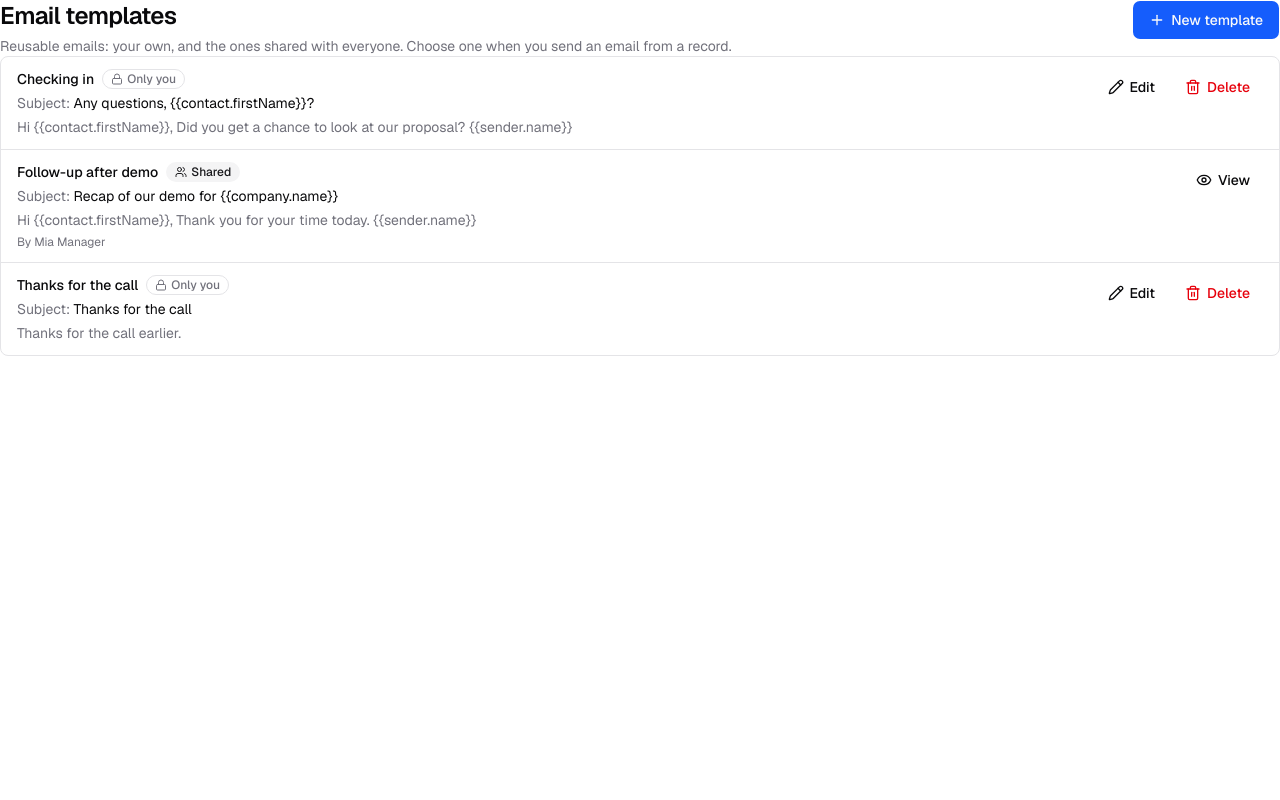
EmailTemplatesPage › adds a template; a Sales Rep never sends `shared`
Click the button "New template" at (1206, 20), box [1132,0,1279,40]
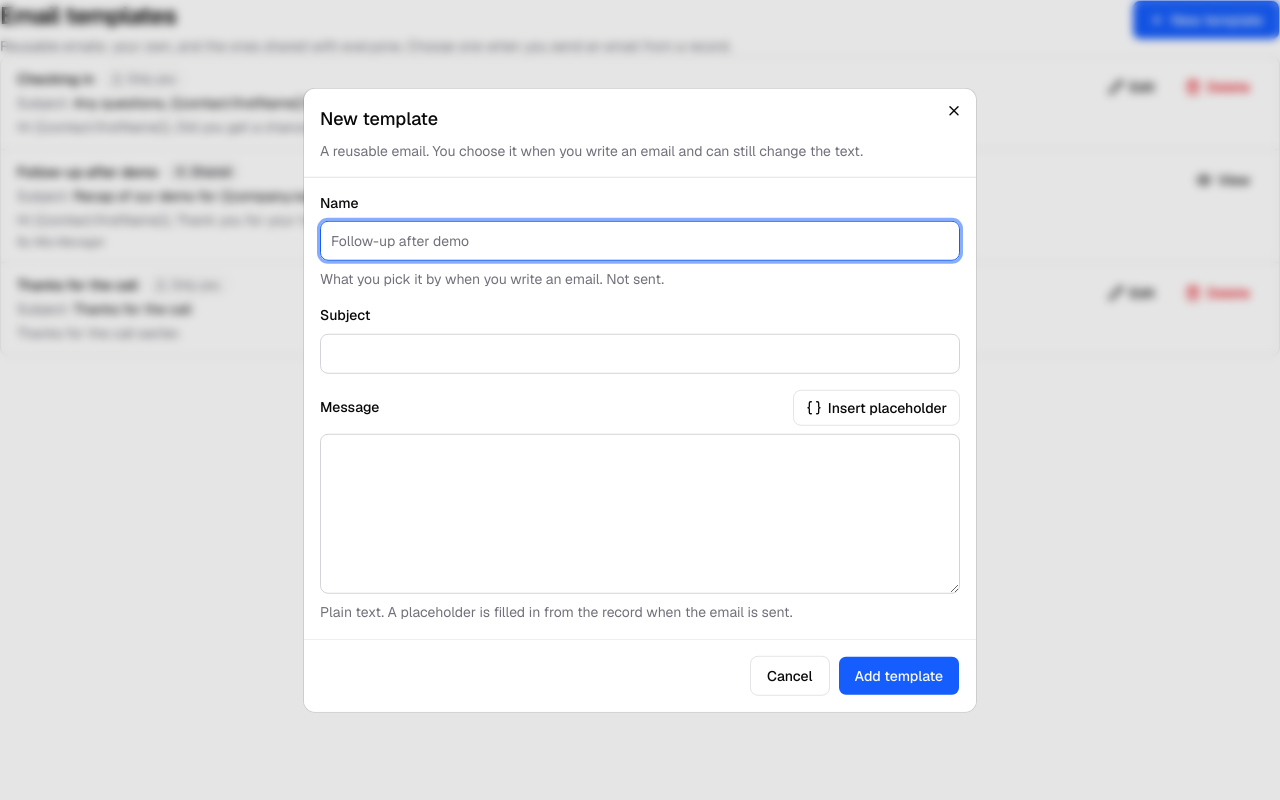
Type "Intro" into the field labelled "Name" at (640, 241), box [320,221,960,261]
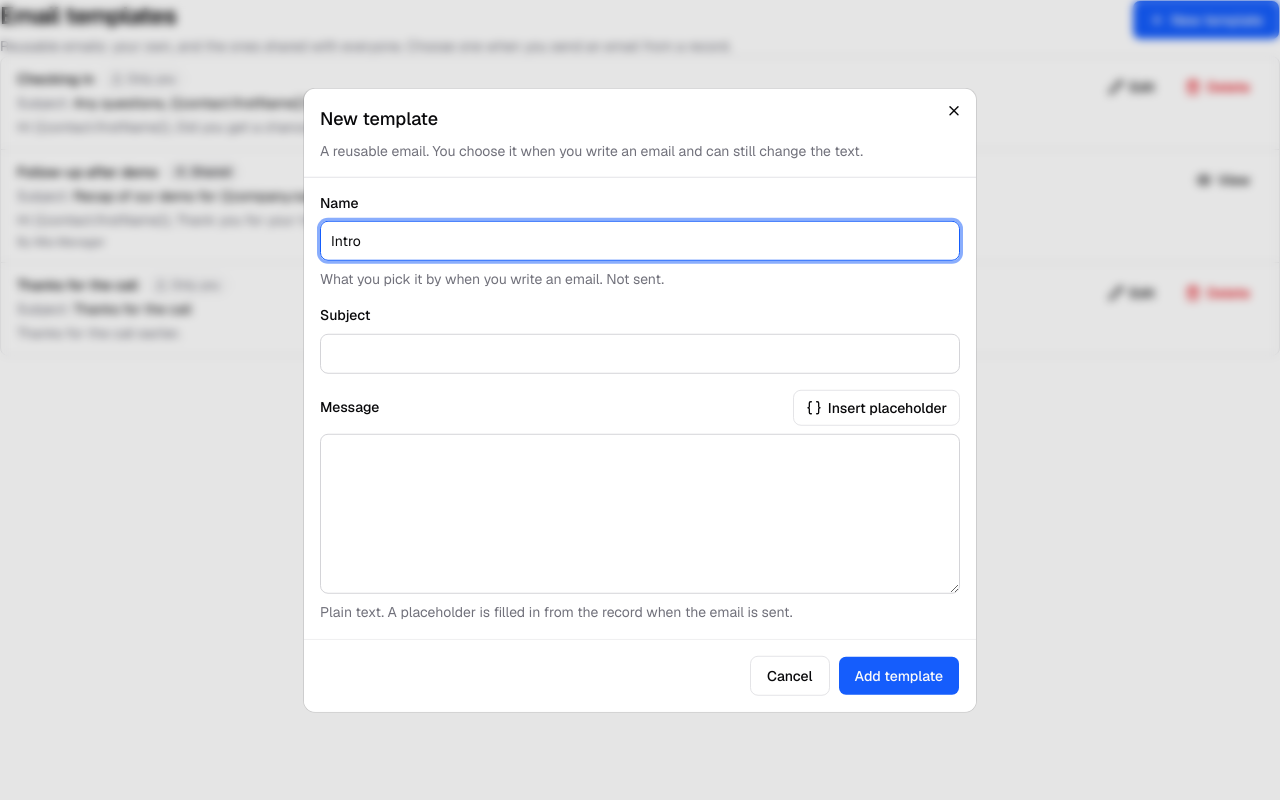
Type "Hello" into the field labelled "Subject" at (640, 353), box [320,333,960,373]
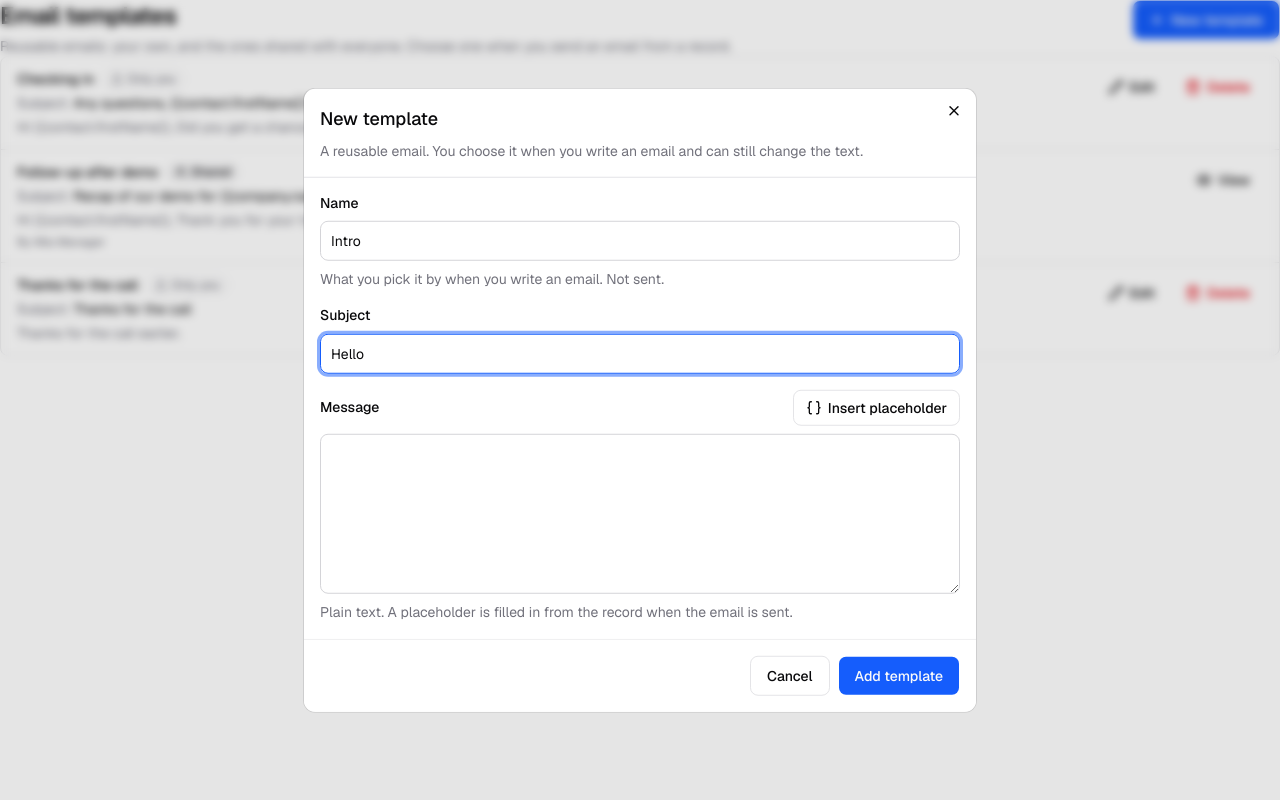
Type "Hi there" into the text box labelled "Message" at (640, 513), box [320,433,960,593]
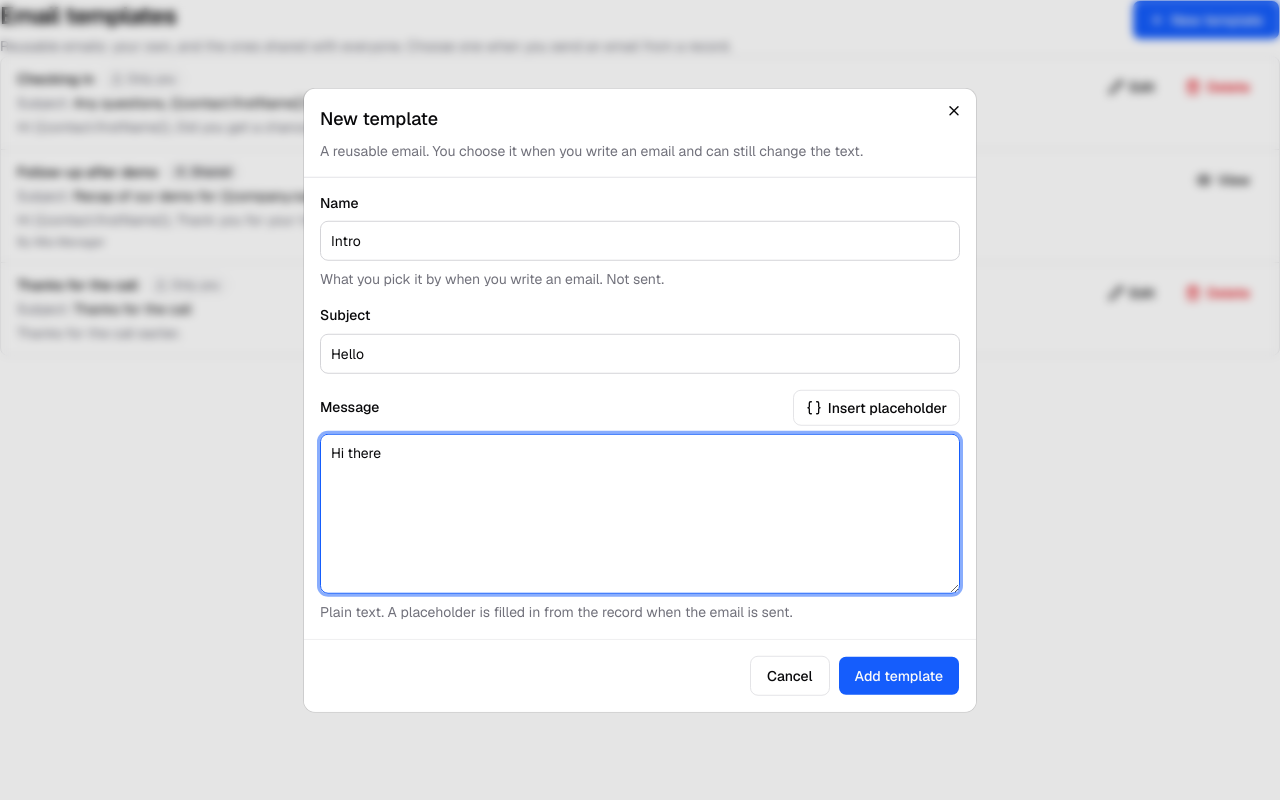
Click the button "Add template" at (899, 675), box [838,655,960,695]
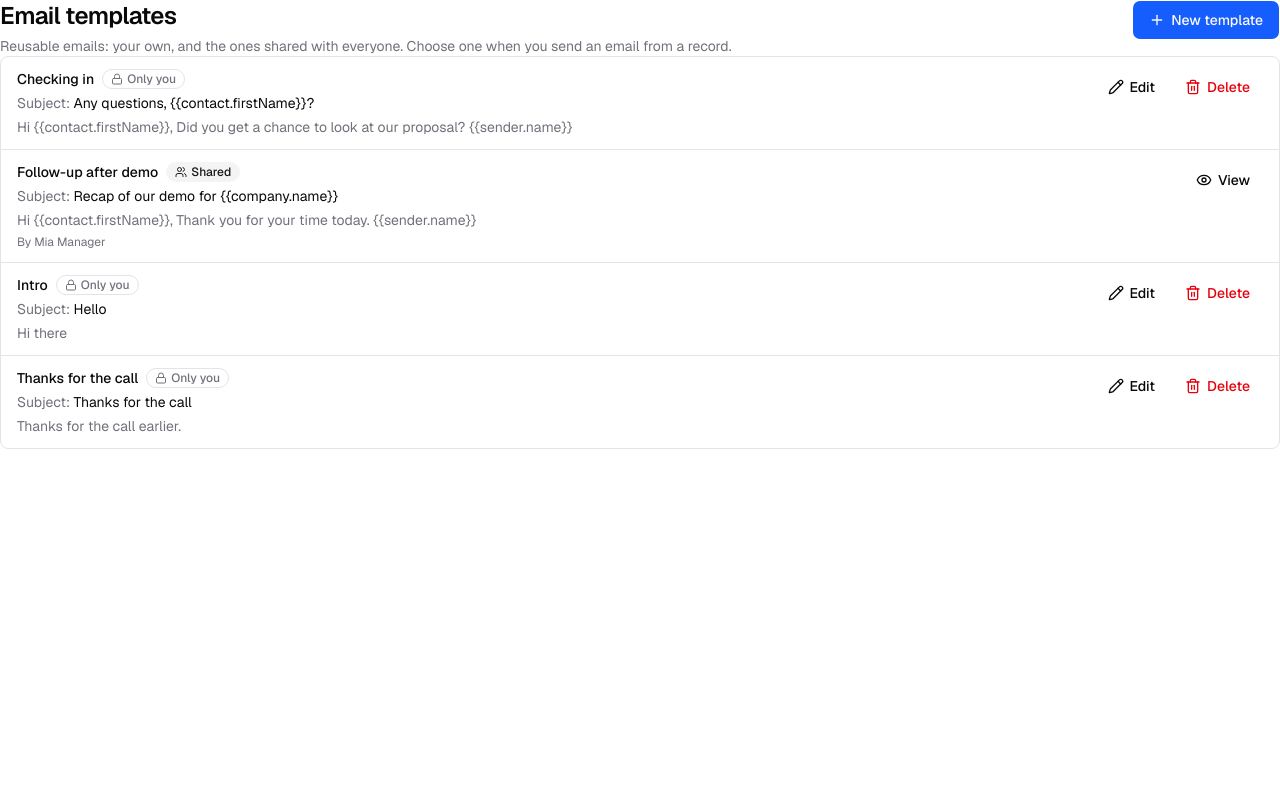
Now the dialog is gone
Now the text "Hello" is shown, box [74,300,106,318]
